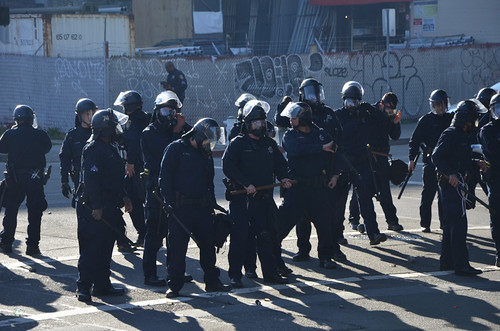graffiti: (340, 51, 428, 119)
policeman: (156, 120, 231, 298), (67, 112, 134, 306), (225, 109, 283, 283), (438, 96, 490, 278), (132, 95, 180, 283), (287, 102, 337, 270), (334, 87, 383, 246), (1, 94, 49, 253)
